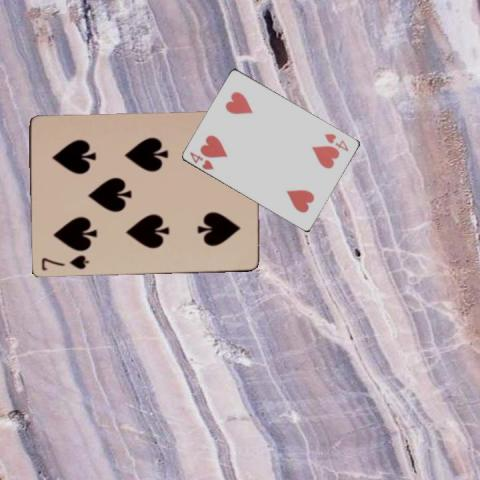4h: (188, 149, 216, 171), (322, 131, 350, 152)
7s: (38, 252, 91, 272)
